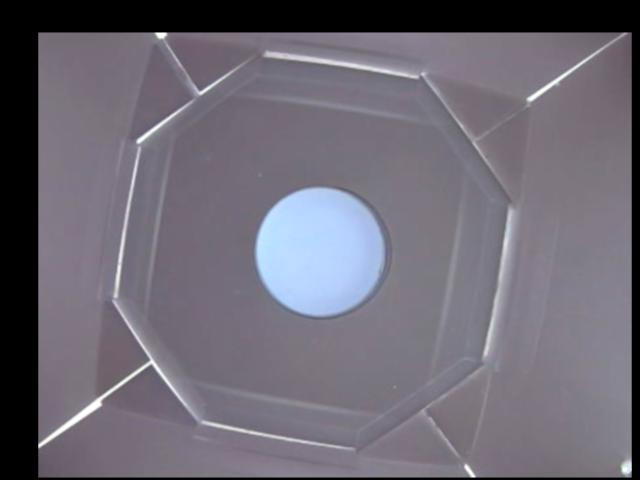Cup: (254, 185, 388, 317)
